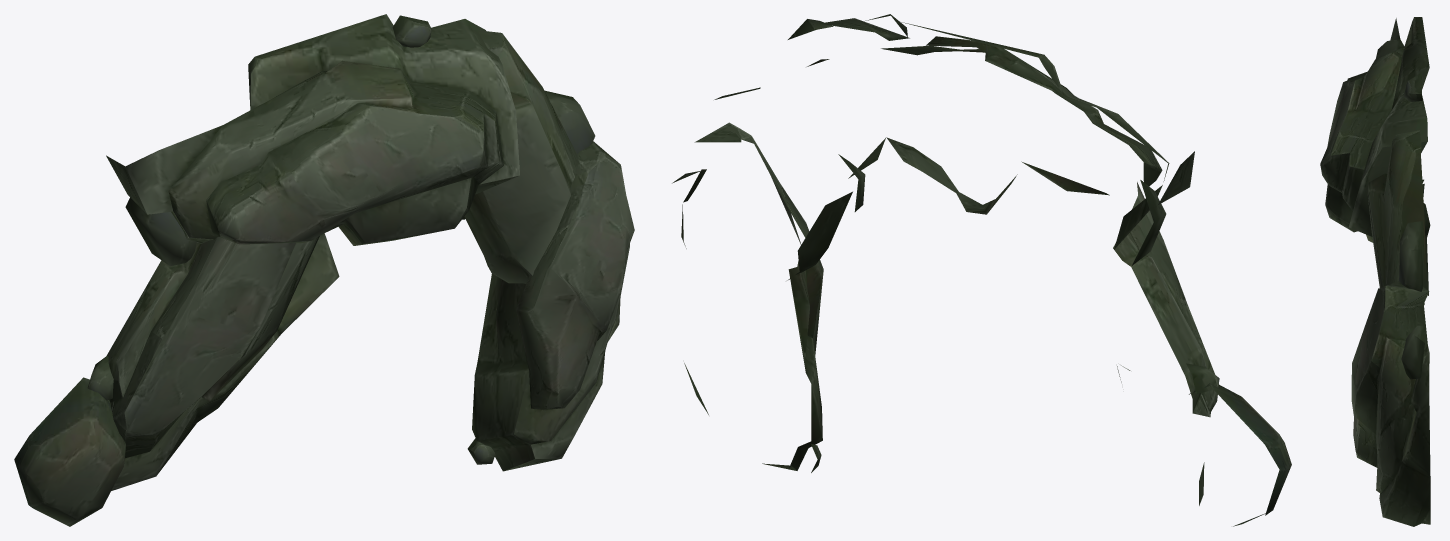
3 views of the same model, side by side, from view 1: azimuth 30°, elevation 25°; view 2: azimuth 150°, elevation 25°; view 3: azimuth 270°, elevation 25° (orthographic). The views are drawn at different scales.
Parts seen in each view (by area): view 1: model_Object69; view 2: model_Object69; view 3: model_Object69.
Part boxes in pixels (bbox=[...]): model_Object69: bbox=[14, 14, 634, 526]; model_Object69: bbox=[672, 14, 1291, 526]; model_Object69: bbox=[1320, 17, 1430, 526].
Bounding box in the file's own units: 3.49 × 2.61 × 0.6807.
1 material, 1 textured.
